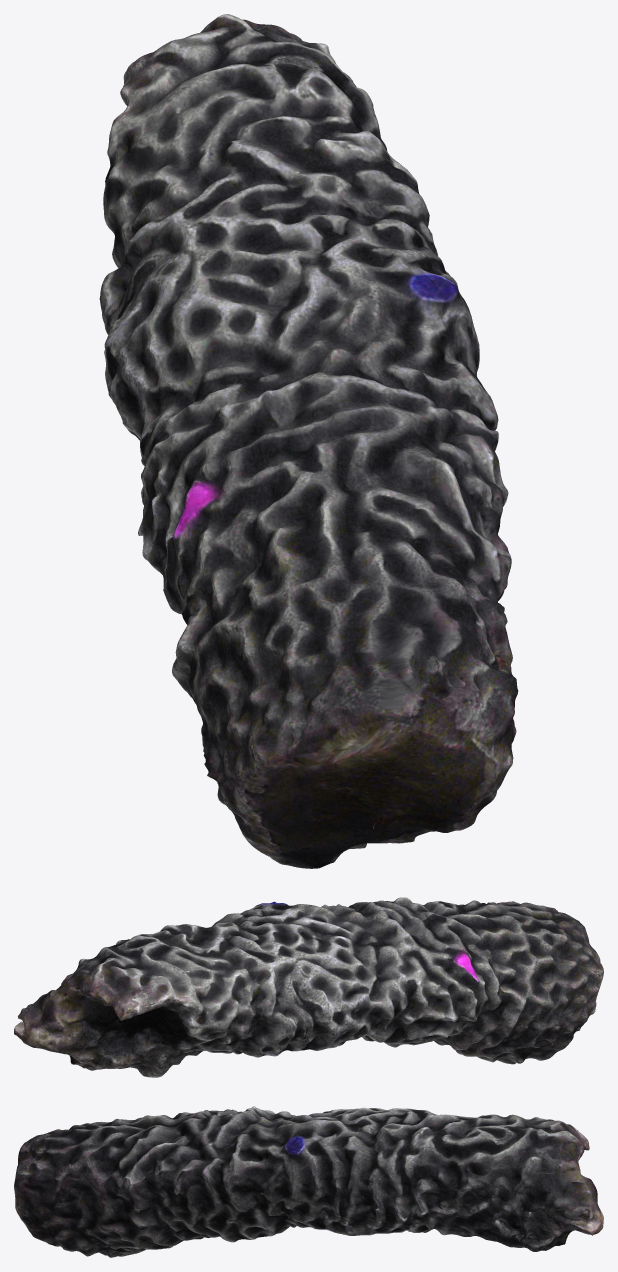
Rendered from MZUR3D-071.glb.
3 views of the same model, one above another, from view 1: azimuth 30°, elevation 25°; view 2: azimuth 150°, elevation 25°; view 3: azimuth 270°, elevation 25° (orthographic). The views are drawn at different scales.
Visible parts, largest first — view 1: MZUR3D-071; view 2: MZUR3D-071; view 3: MZUR3D-071.
Part boxes in pixels (x1=…): MZUR3D-071: x1=99, y1=14, x2=518, y2=868; MZUR3D-071: x1=14, y1=897, x2=603, y2=1077; MZUR3D-071: x1=14, y1=1106, x2=603, y2=1257.
Bounding box in the file's own units: 0.4518 × 0.2934 × 0.7506.
1 material, 1 textured.
